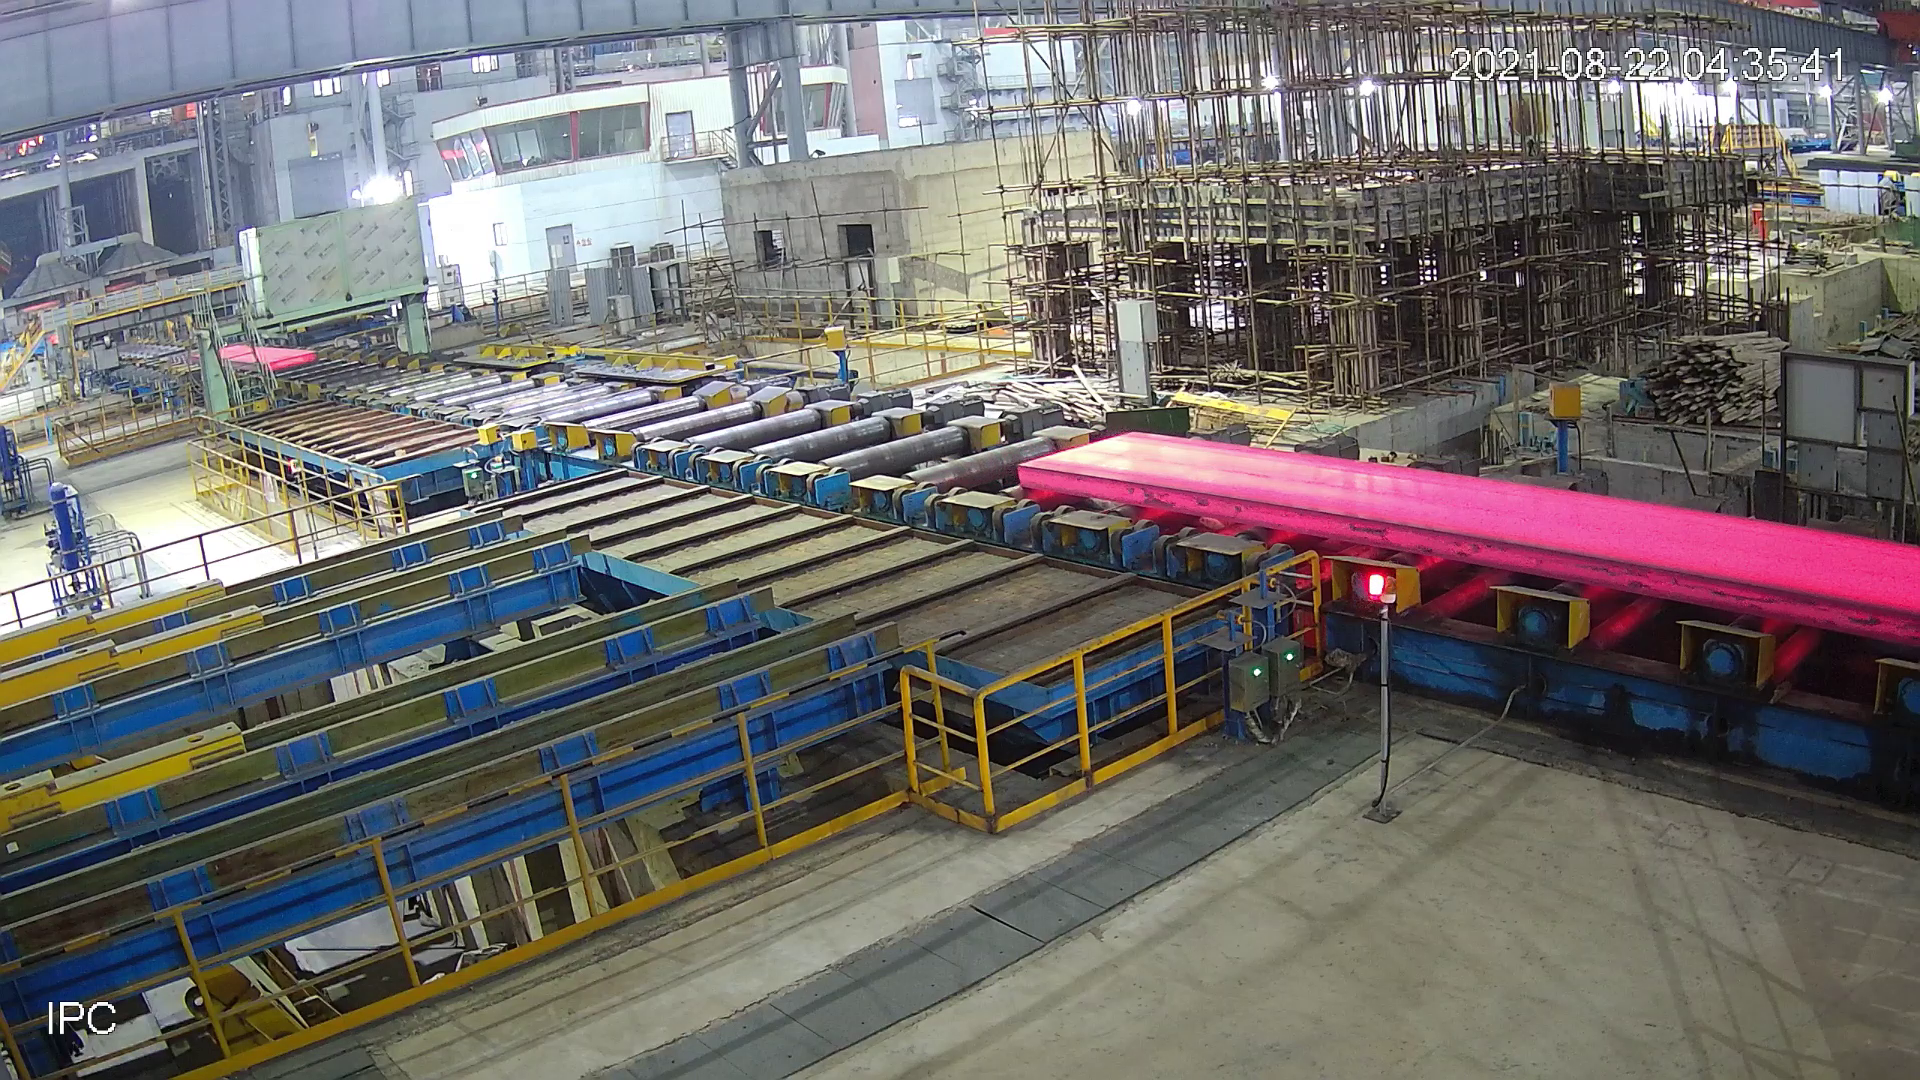slab: (1011, 419, 1920, 665), (193, 340, 324, 373)
